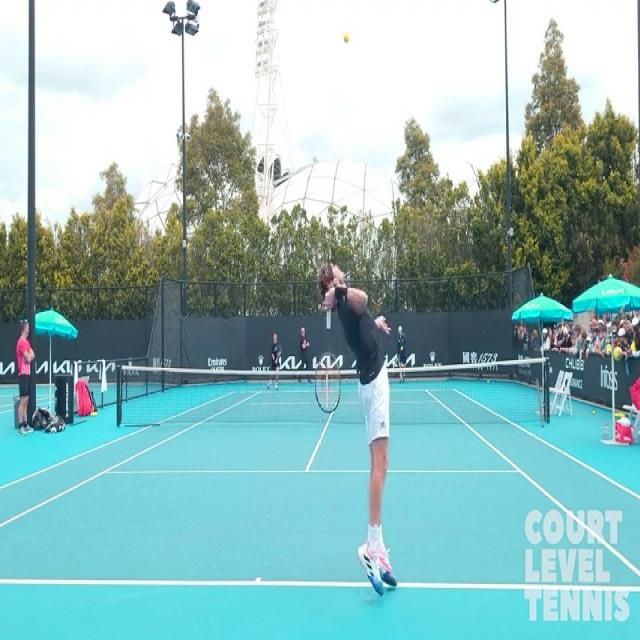serve_hit: (289, 172, 410, 626)
